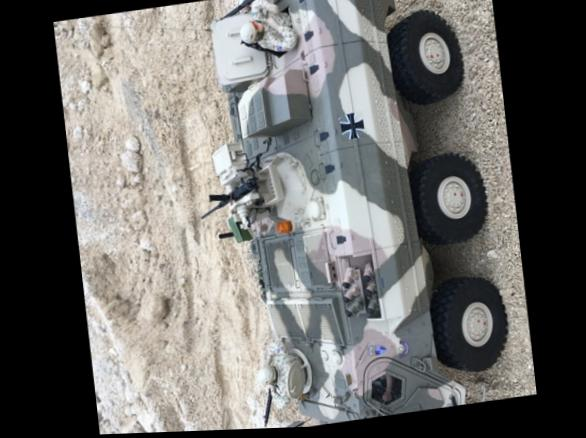armored_car: (175, 0, 512, 432)
